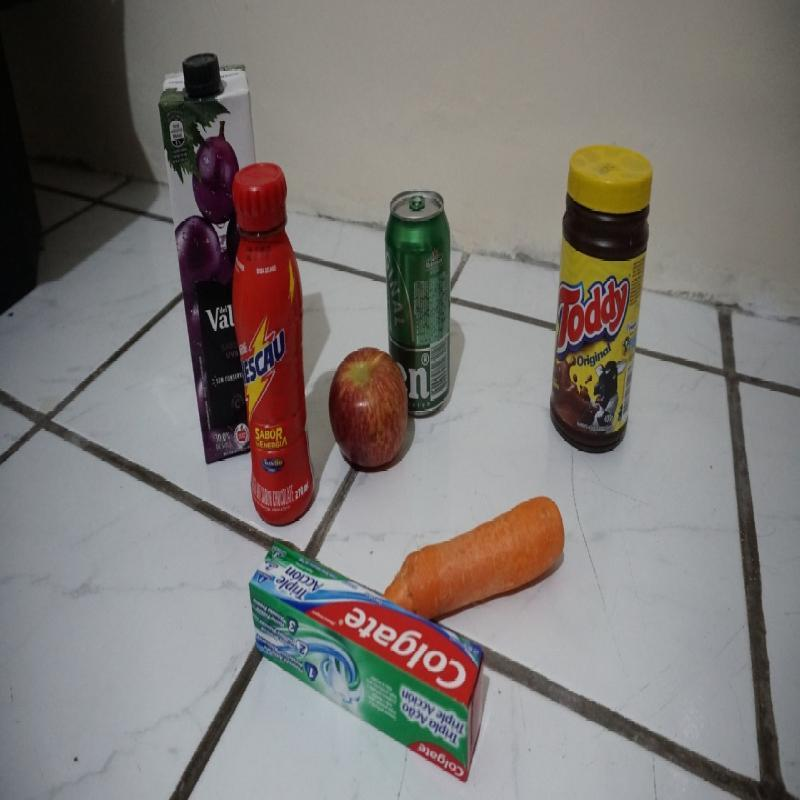Apple: (327, 347, 408, 468)
Beer can: (385, 185, 450, 424)
Carrot: (382, 492, 569, 622)
Chocolate Milk: (231, 163, 316, 525)
Chocolate Powder: (549, 144, 654, 455)
Toothpaste: (248, 543, 484, 778)
